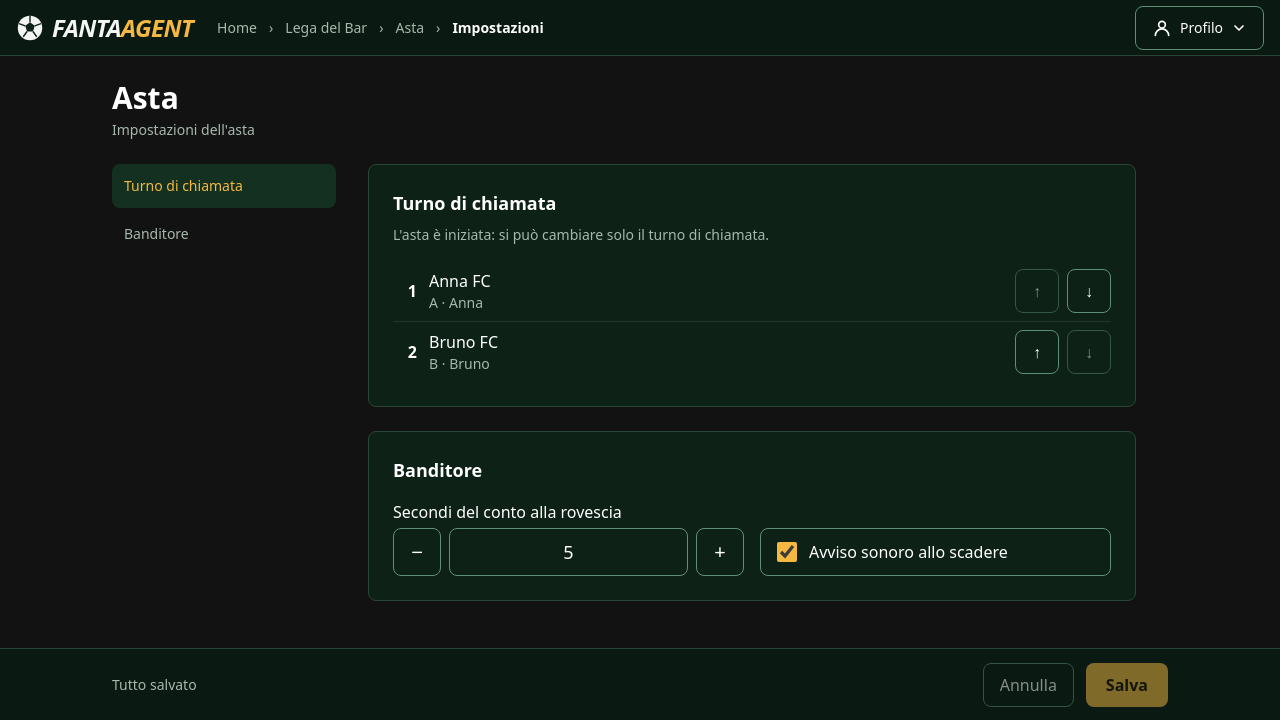
AuctionSettingsRoute › un valore riportato com'era non e' una modifica
Click the button named "Sposta giù Anna FC": (1089, 291) x1=1067 y1=269 x2=1111 y2=313
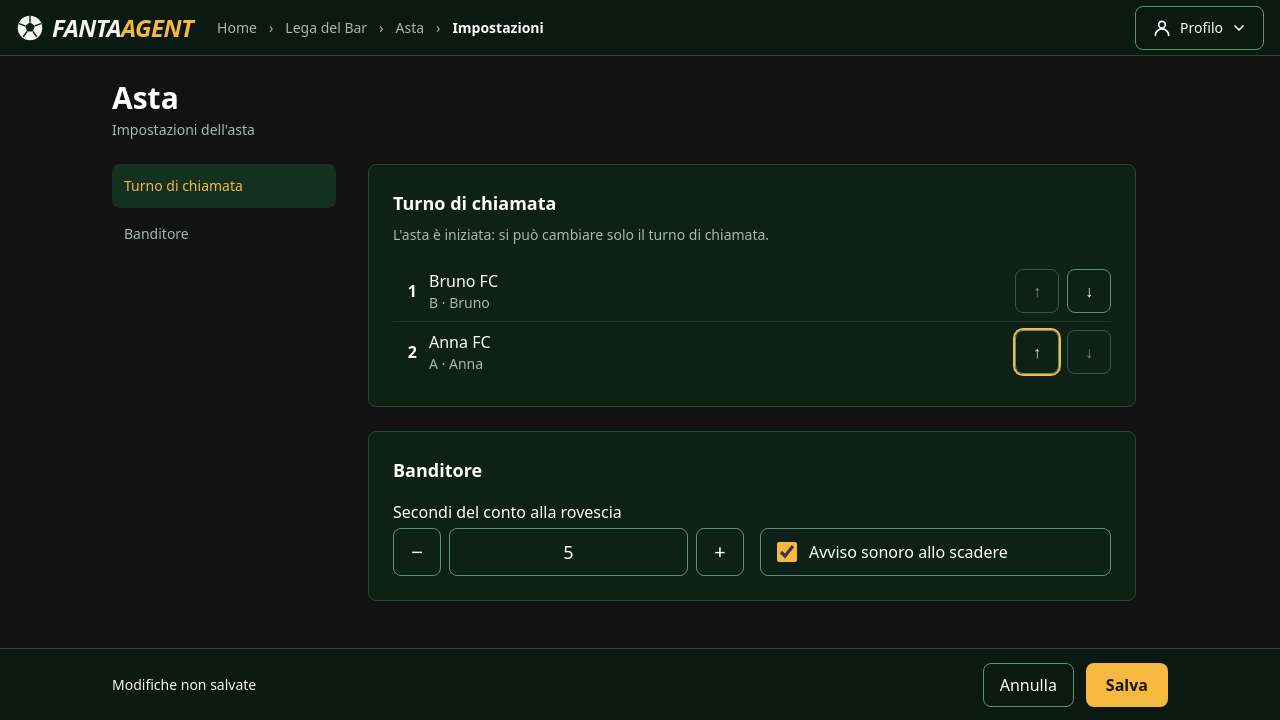
Click the button named "Sposta giù Bruno FC": (1089, 291) x1=1067 y1=269 x2=1111 y2=313
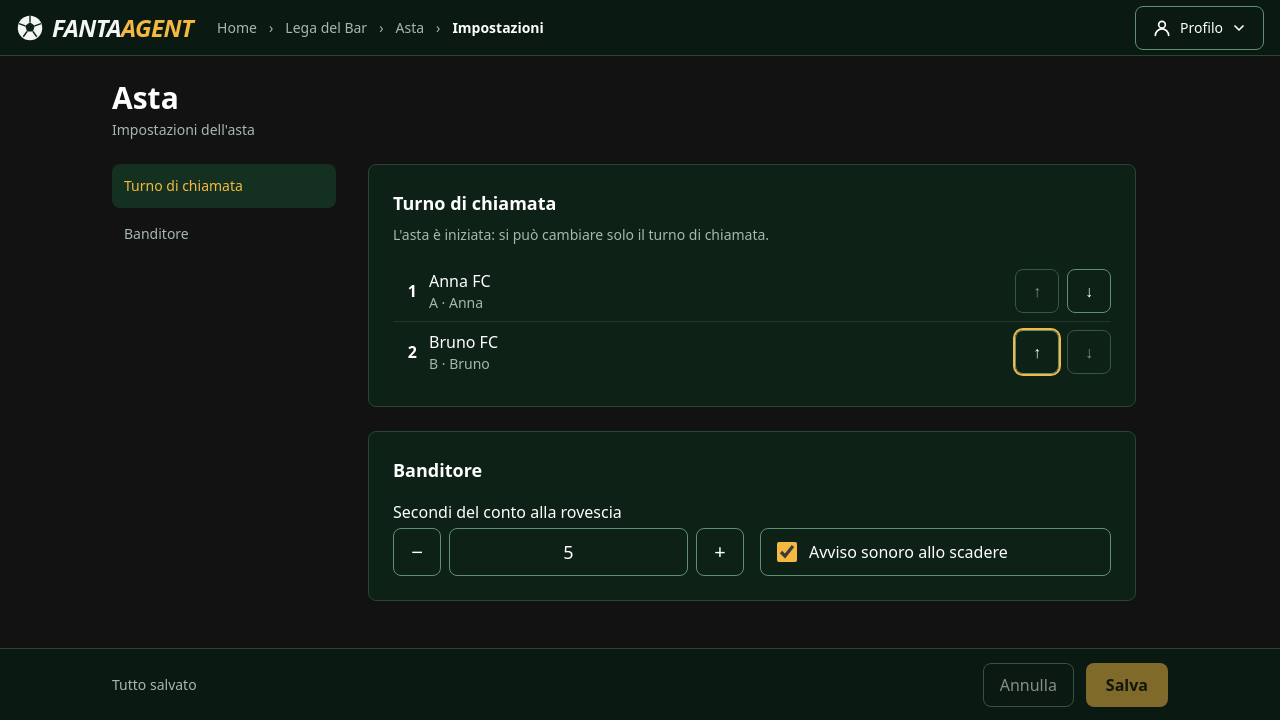
Click the button named "Un secondo in più": (720, 552) x1=696 y1=528 x2=744 y2=576
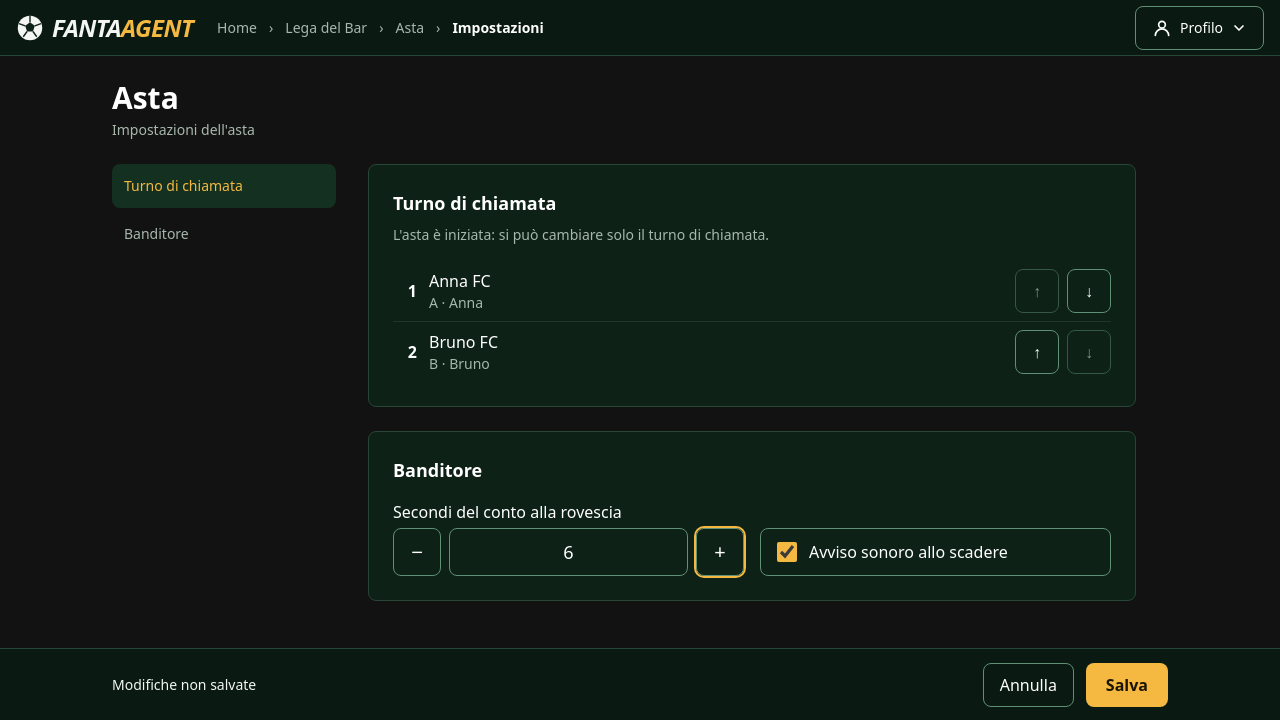
Click the button named "Un secondo in meno": (417, 552) x1=393 y1=528 x2=441 y2=576
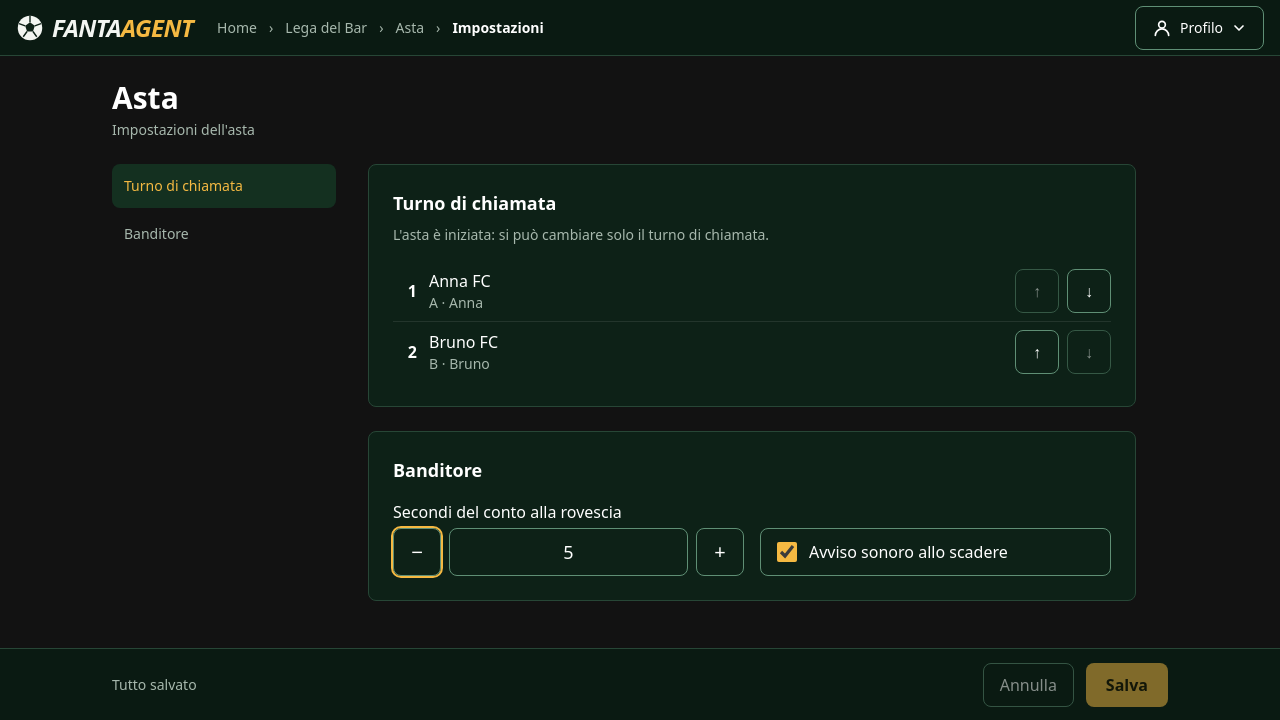
Expected: the text "Tutto salvato" is shown, x1=112 y1=675 x2=197 y2=694
Expected: the button "Salva" is disabled, x1=1086 y1=662 x2=1168 y2=706
